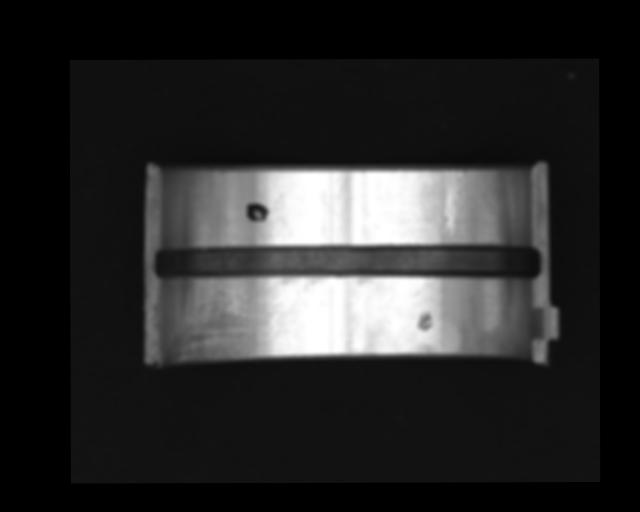blot: (244, 202, 271, 222)
bruise: (415, 309, 435, 332)
gap: (152, 243, 542, 282)
nick: (440, 167, 464, 236)
scratch: (167, 275, 296, 365)
